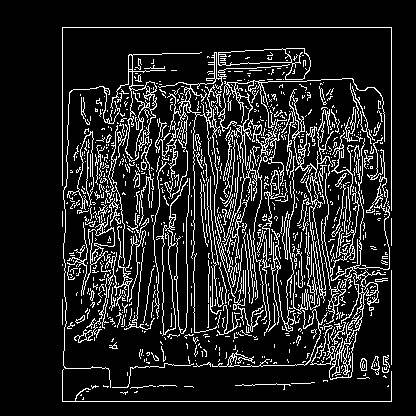buddha-standing: (62, 205, 226, 254)
